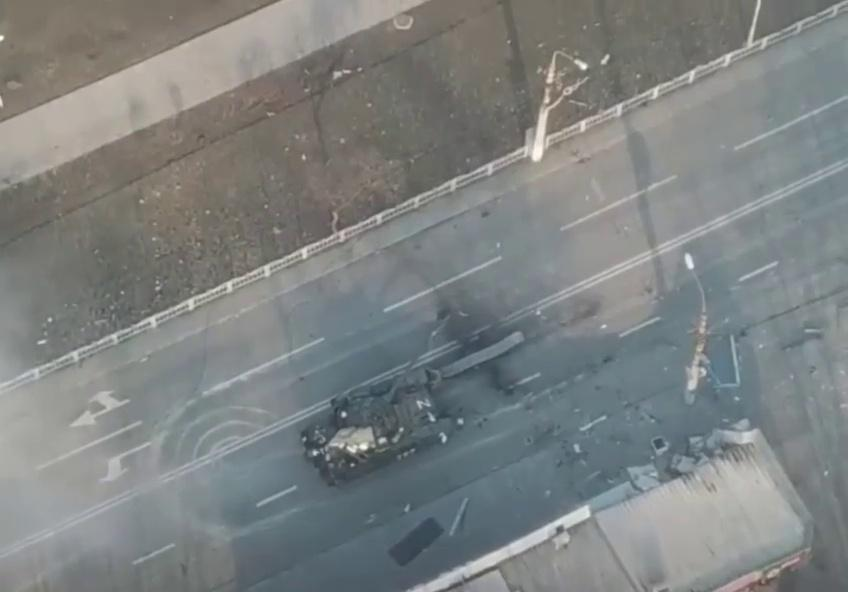tank: (300, 333, 456, 490)
